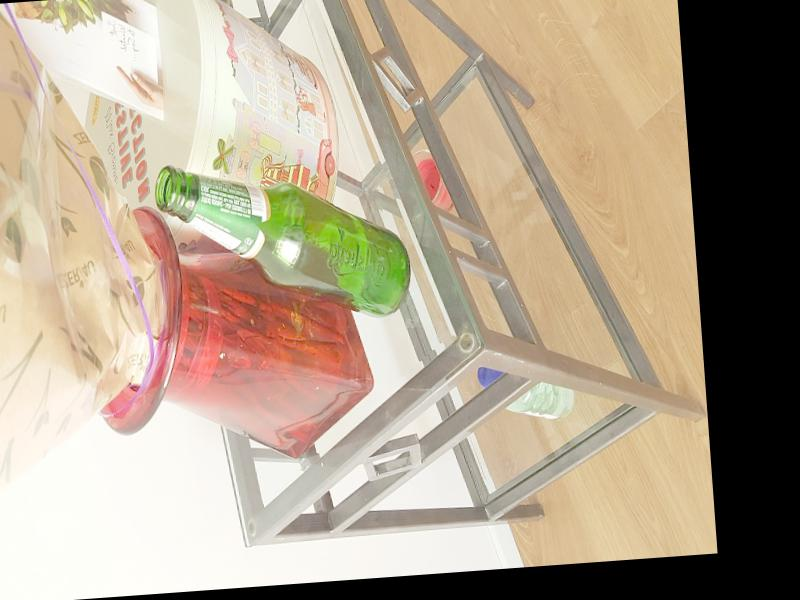Beer: (153, 151, 413, 332)
